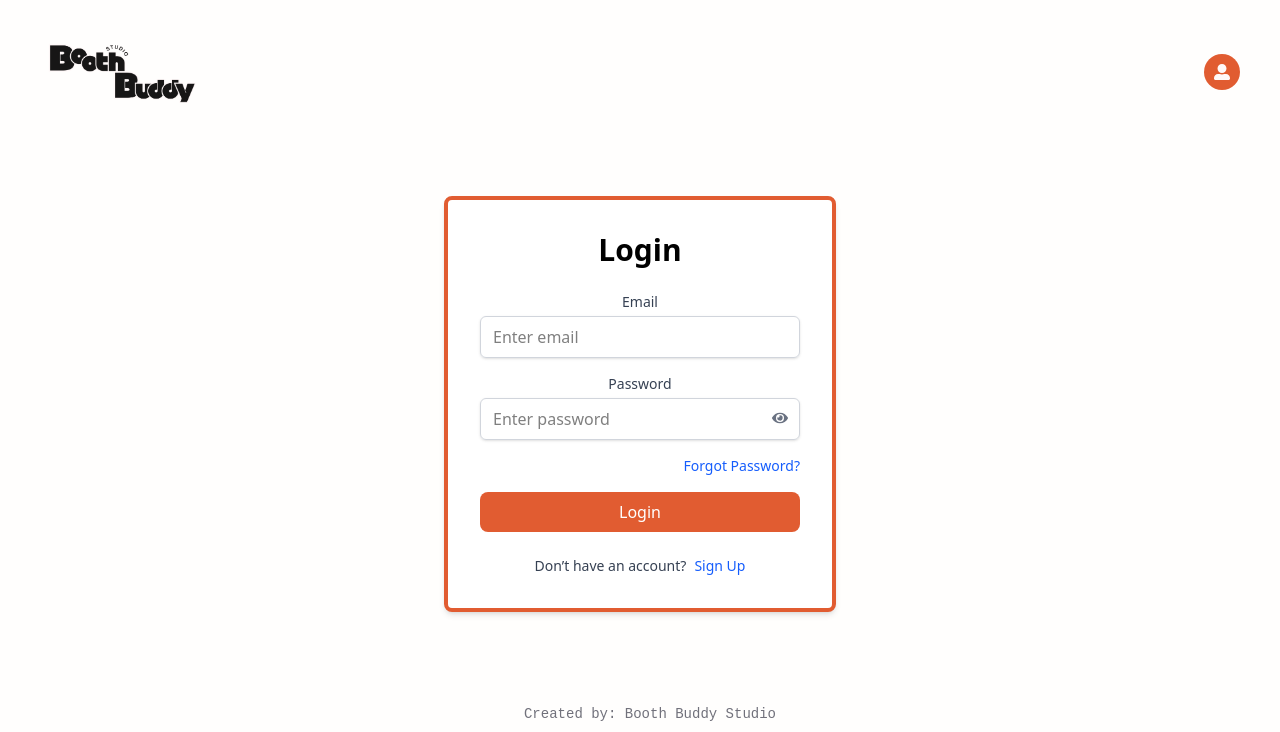
LoginPage Component › should show error message when login fails
Step 1. Type "test@example.com" into the field with placeholder "Enter email" → (640, 337), box x1=480 y1=316 x2=800 y2=358
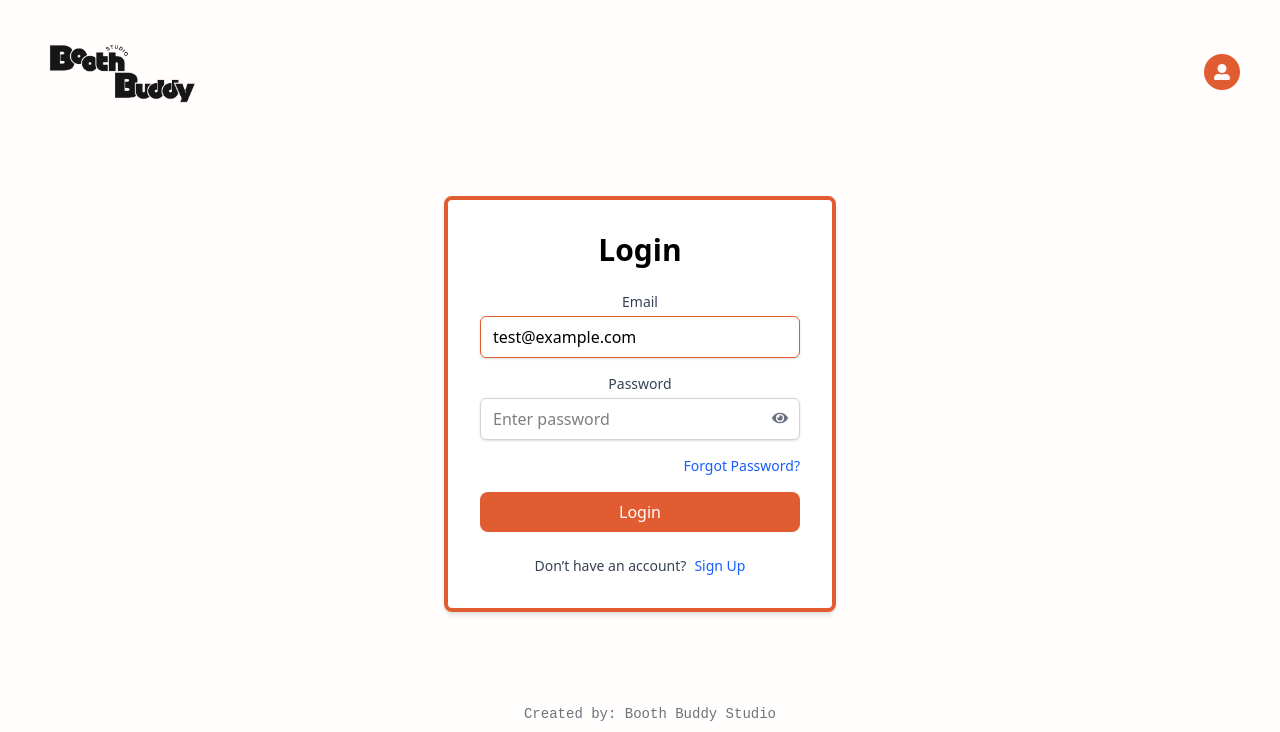
Step 2. Type "wrongpassword" into the password field with placeholder "Enter password" → (640, 419), box x1=480 y1=398 x2=800 y2=440
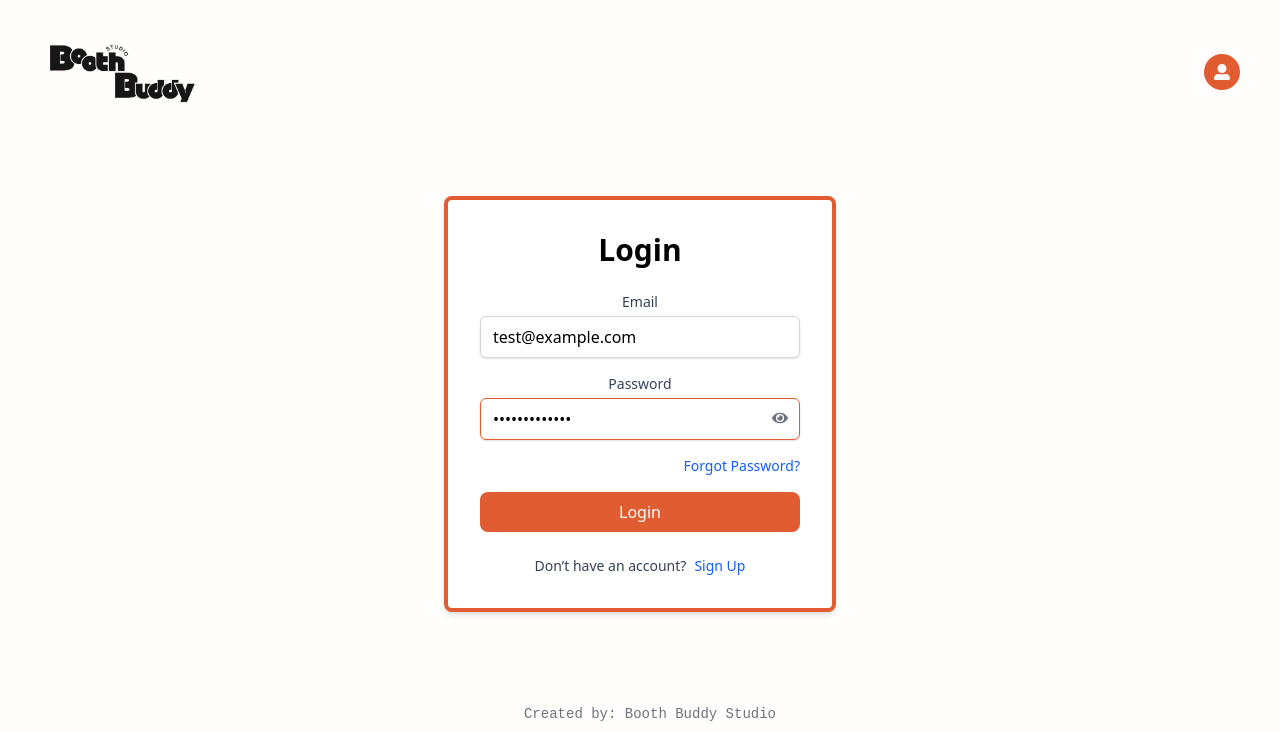
Step 3. Click the button "Login" → (640, 512), box x1=480 y1=492 x2=800 y2=532
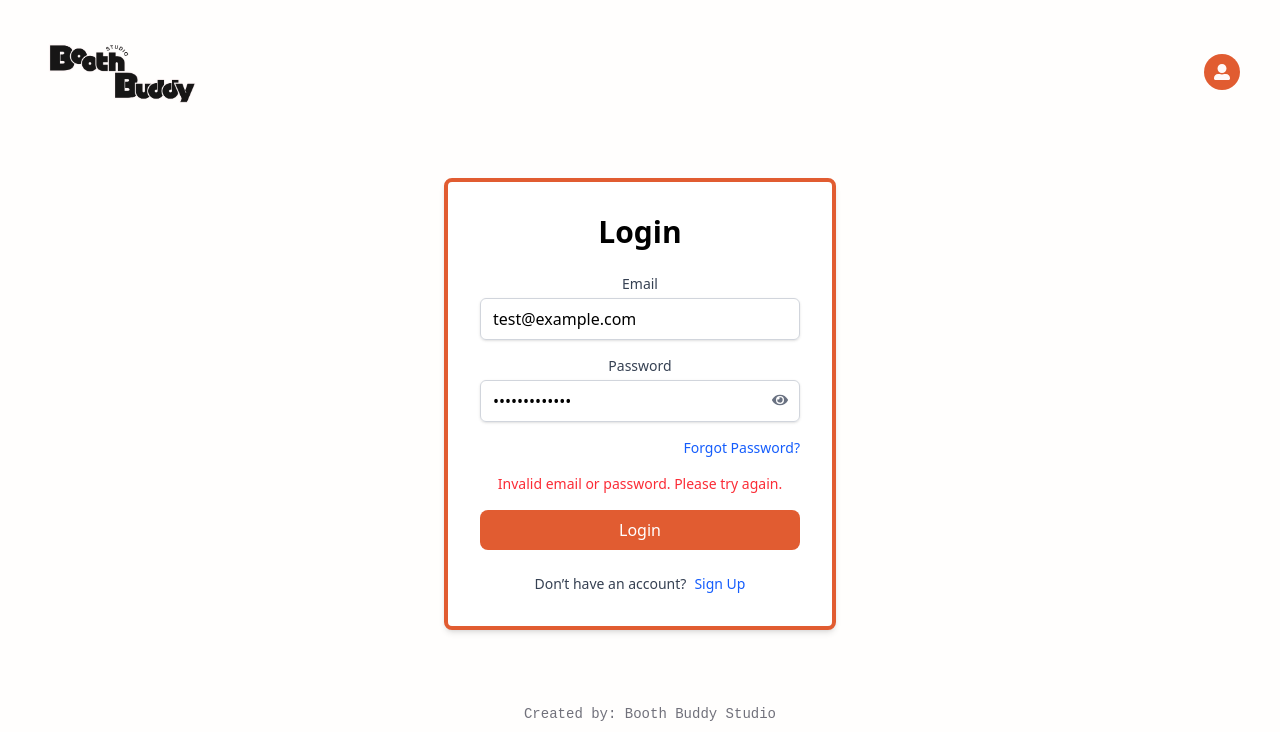
Check: the text "Invalid email or password. Please try again." is shown, box x1=480 y1=474 x2=800 y2=494
